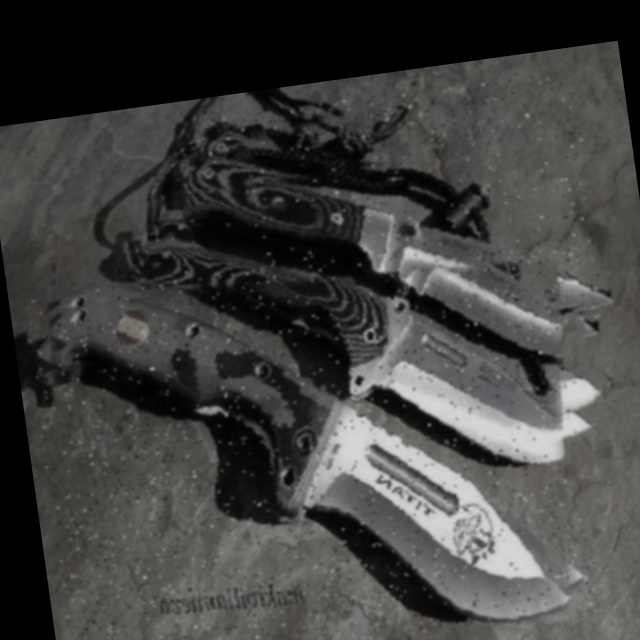Sharp-Object: (23, 228, 596, 640), (127, 135, 602, 510), (173, 69, 610, 403)
